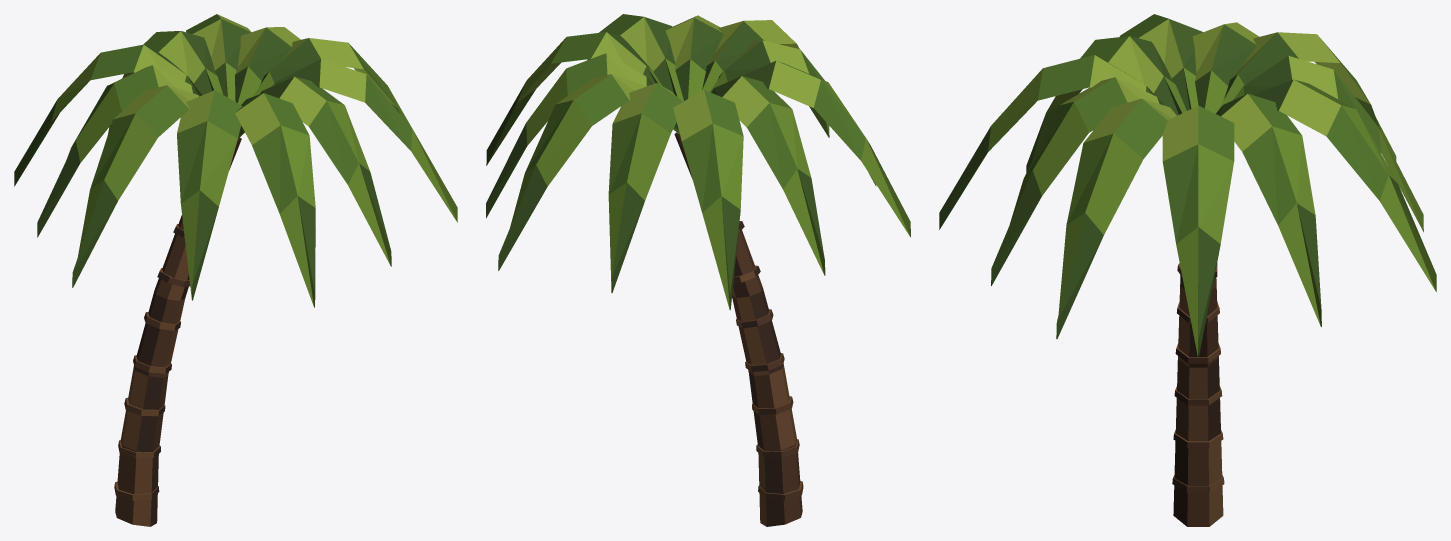
File: tree_palm_bent.obj
3 renders of one model, left to right at view 1: azimuth 30°, elevation 25°; view 2: azimuth 150°, elevation 25°; view 3: azimuth 270°, elevation 25°, orthographic. The views are drawn at different scales.
Parts seen in each view (by area): view 1: tree_palm_bent; view 2: tree_palm_bent; view 3: tree_palm_bent.
Boxes of the visible parts, x1,y1,x2,y2 form: tree_palm_bent: (14,14,457,526); tree_palm_bent: (486,14,910,526); tree_palm_bent: (939,14,1436,526).
Size of the model in its own units: 566 by 620 by 549.
Materials: 1 (1 with a texture image).
